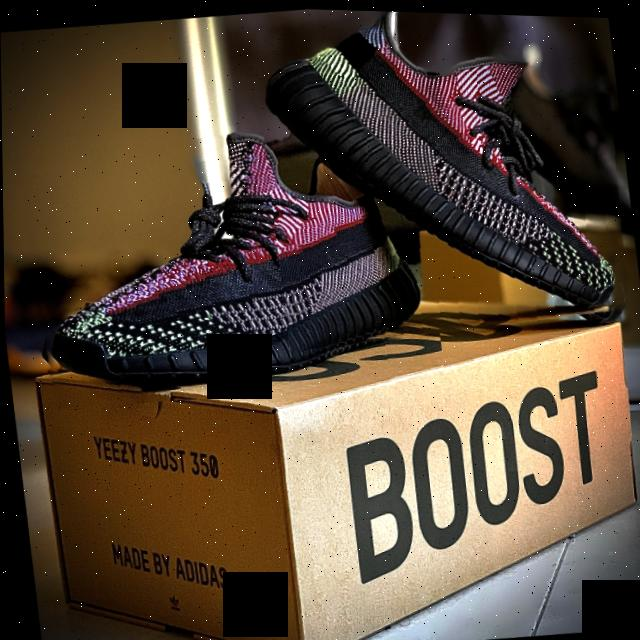shoe: (11, 100, 444, 420), (249, 6, 640, 358)
